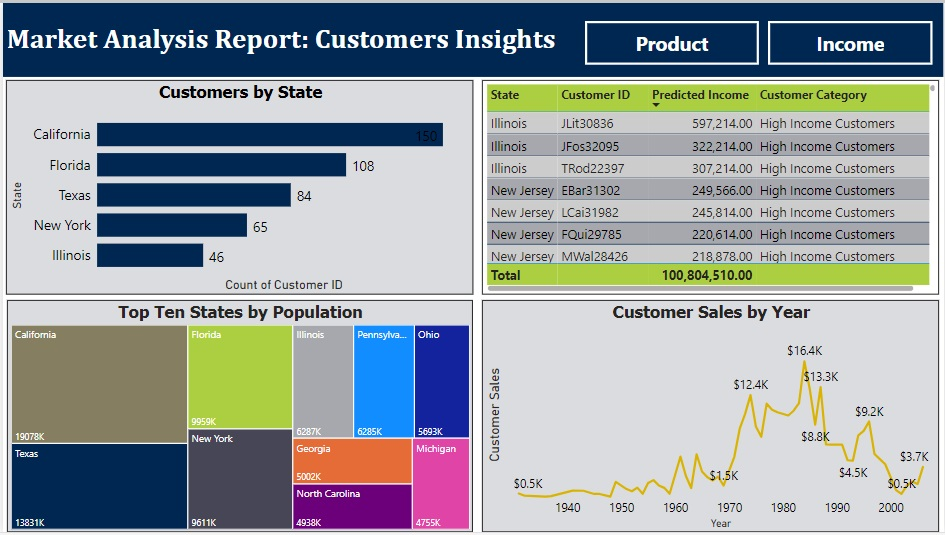

This screenshot's page, from the dashboard's own definition file:
{"tool":"powerbi","page":{"name":"Customer","canvas":[1280,720],"ordinal":2},"visuals":[{"type":"shape","box":[0,0,1279.8,100.6],"z":0},{"type":"textbox","box":[0,21.3,765.4,66.6],"z":1000},{"type":"clusteredBarChart","title":"Customers by State","fields":{"Category":["Customer List.State"],"Y":["CountNonNull(Customer List.Customer ID)"]},"box":[4.3,104.9,636.4,292],"z":2000},{"type":"treemap","title":"Top Ten States by Population","fields":{"Group":["Industries.State"],"Values":["Sum(Industries.Population)"]},"box":[5.7,403.9,633.5,316.1],"z":3000},{"type":"lineChart","fields":{"Y":["Sum(Customer List.Customer Sales)"],"Category":["Customer List.Date of Birth.Variation.Date Hierarchy.Year","Customer List.Date of Birth.Variation.Date Hierarchy.Quarter","Customer List.Date of Birth.Variation.Date Hierarchy.Month","Customer List.Date of Birth.Variation.Date Hierarchy.Day"]},"box":[652,403.9,622.2,316.1],"z":4000},{"type":"tableEx","fields":{"Values":["Customer List.State","Customer List.Customer ID","Sum(Customer List.Predicted Income)","Customer List.Customer Category"]},"box":[652,104.9,622.2,292],"z":5000},{"type":"actionButton","box":[1041.7,24.1,223.9,59.5],"z":7000},{"type":"actionButton","box":[792.3,24.1,236.7,59.5],"z":8000}]}

Visuals, with their boxes in screenshot pixels (x1, y1, x2, y2), scaled from the page's 1280x720 canvas onto the 945x535 screenshot:
shape: pyautogui.locateOnScreen(0, 0, 944, 75)
textbox: pyautogui.locateOnScreen(0, 16, 565, 65)
"Customers by State" clusteredBarChart: pyautogui.locateOnScreen(3, 78, 473, 295)
"Top Ten States by Population" treemap: pyautogui.locateOnScreen(4, 300, 472, 534)
lineChart - Sum(Customer List.Customer Sales) x Customer List.Date of Birth.Variation.Date Hierarchy.Year: pyautogui.locateOnScreen(481, 300, 941, 534)
tableEx - Customer List.State x Customer List.Customer ID: pyautogui.locateOnScreen(481, 78, 941, 295)
actionButton: pyautogui.locateOnScreen(769, 18, 934, 62)
actionButton: pyautogui.locateOnScreen(585, 18, 760, 62)
